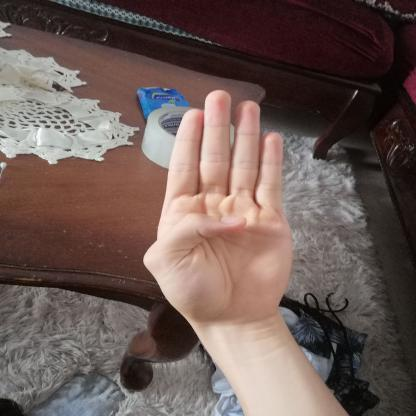KAAF: (121, 78, 315, 338)
